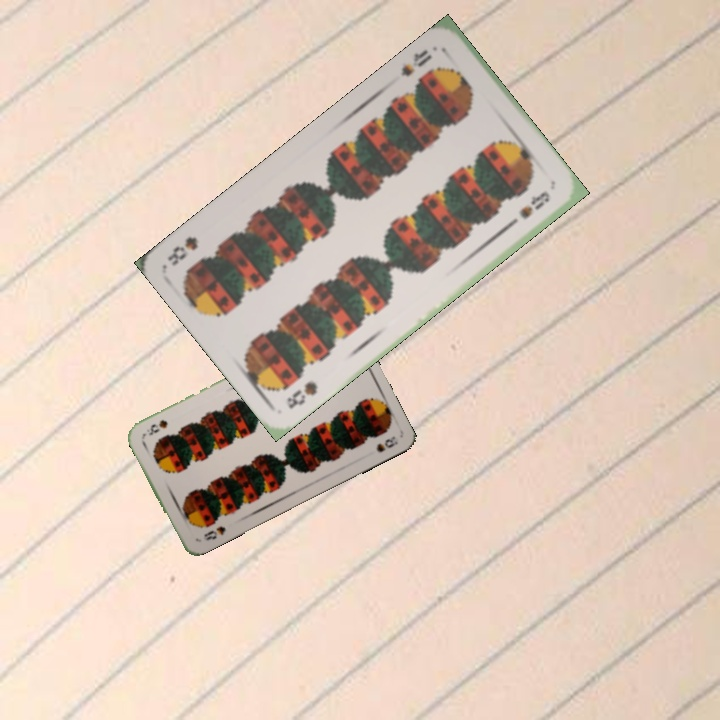S8: (283, 377, 321, 412), (397, 45, 435, 79), (200, 522, 228, 543)
